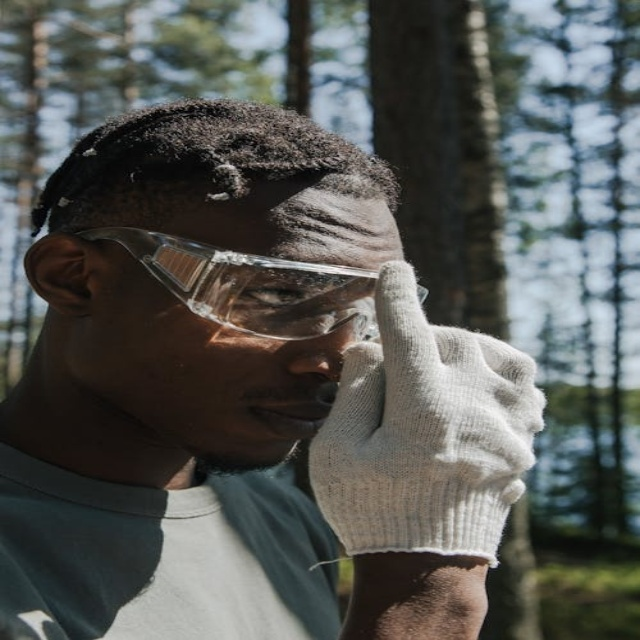Gafas: (70, 229, 422, 343)
Guantes: (306, 259, 547, 564)
Sin_mascara: (204, 396, 337, 473)
